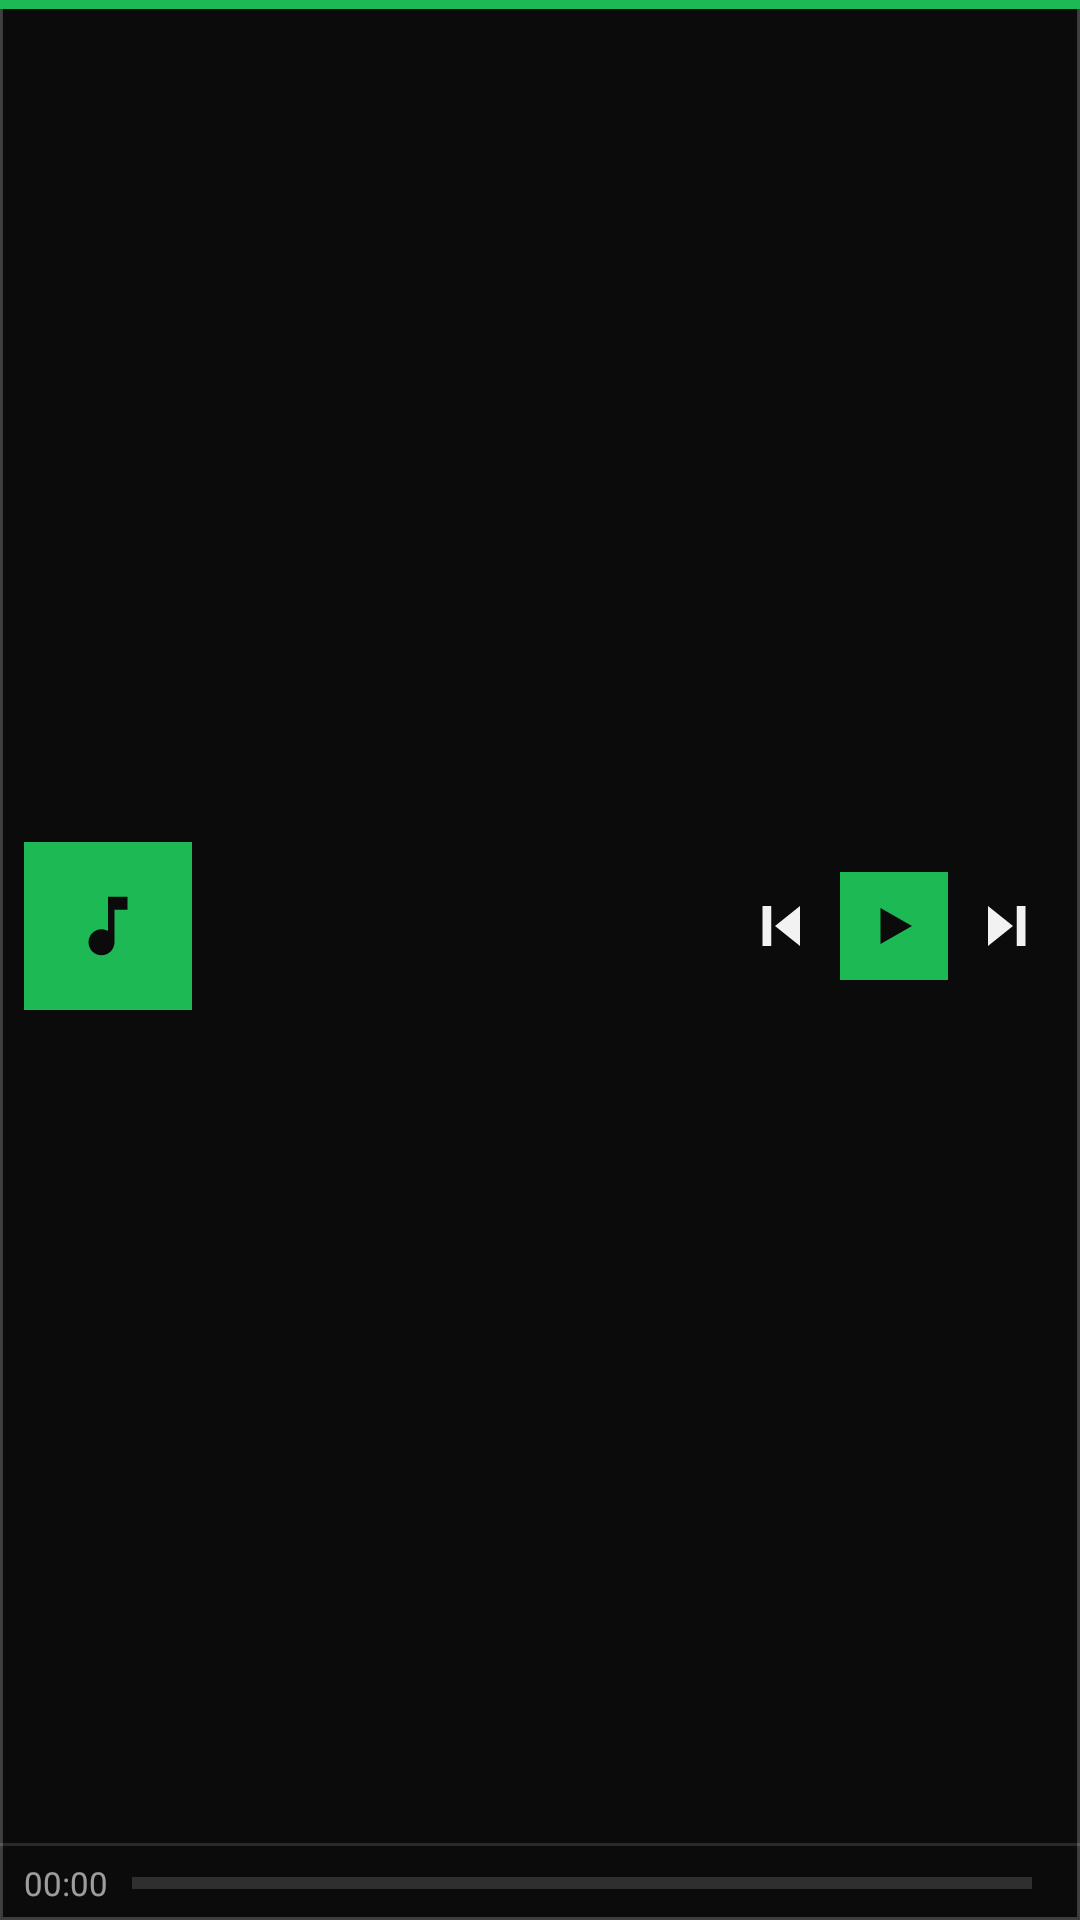

Icon click points for this 1080px x 1920px phone screenshot, format point (x, y):
widget next: point (1007, 926)
widget note: point (108, 926)
widget play: point (894, 926)
widget prev: point (781, 926)
